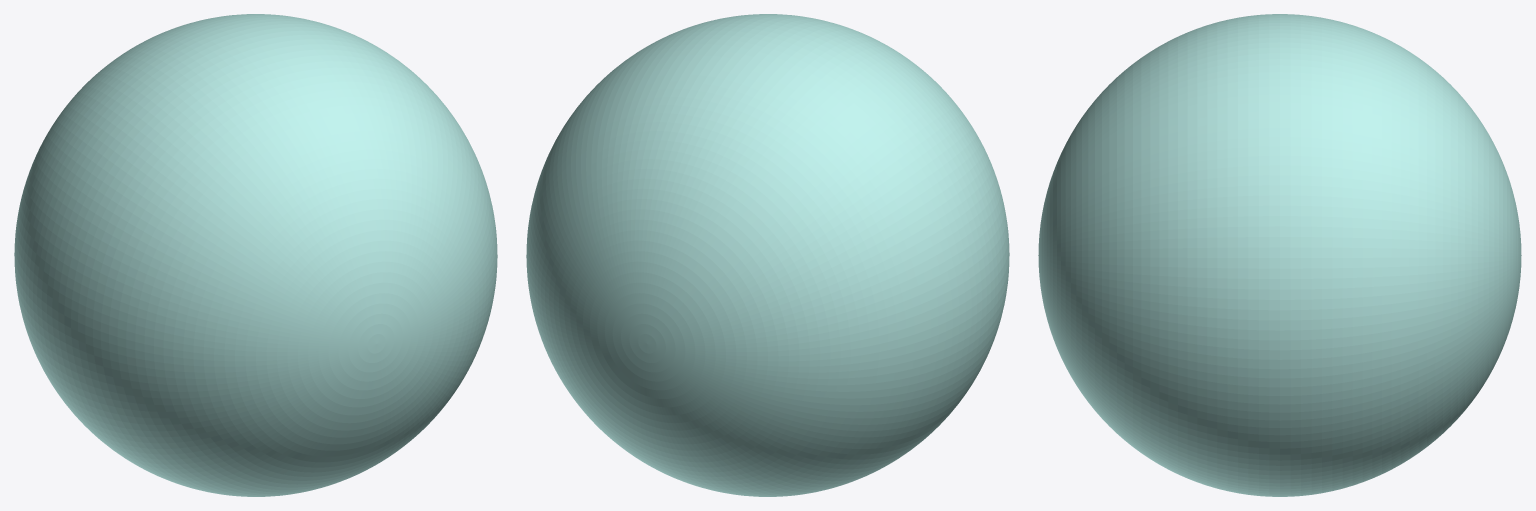
The model's file is EEZYbotARM_Mk2_robot_base_vis_8.dae.
3 views of the same model, side by side, from view 1: azimuth 30°, elevation 25°; view 2: azimuth 150°, elevation 25°; view 3: azimuth 270°, elevation 25° (orthographic).
Parts seen in each view (by area): view 1: node; view 2: node; view 3: node.
Boxes of the visible parts, bbox=[...] form: node: bbox=[14, 14, 497, 496]; node: bbox=[526, 14, 1009, 496]; node: bbox=[1038, 14, 1521, 496].
Bounding box in the file's own units: 0.006 × 0.006 × 0.006.
